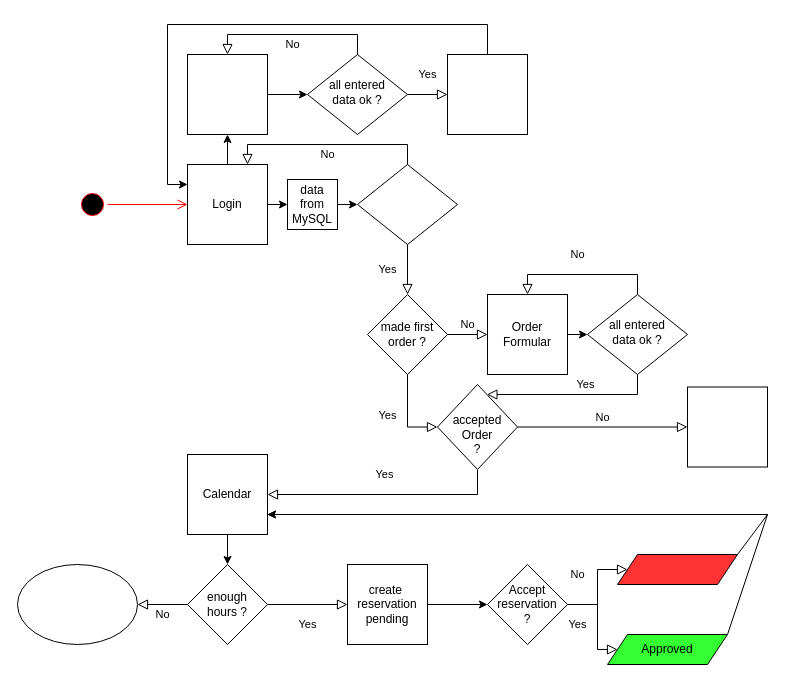
The diagram is 793 pixels wide and 682 high, and some of its shapes have lost their labels. Each missing label, with the centre of its shape:
"login creds correct?" goes at point 407,204.
"Order new hours" goes at point 77,604.
"Page Order Pending" goes at point 727,426.
"Register" goes at point 227,94.
"Reject" goes at point 677,569.
"save data to MySQL" goes at point 487,94.
